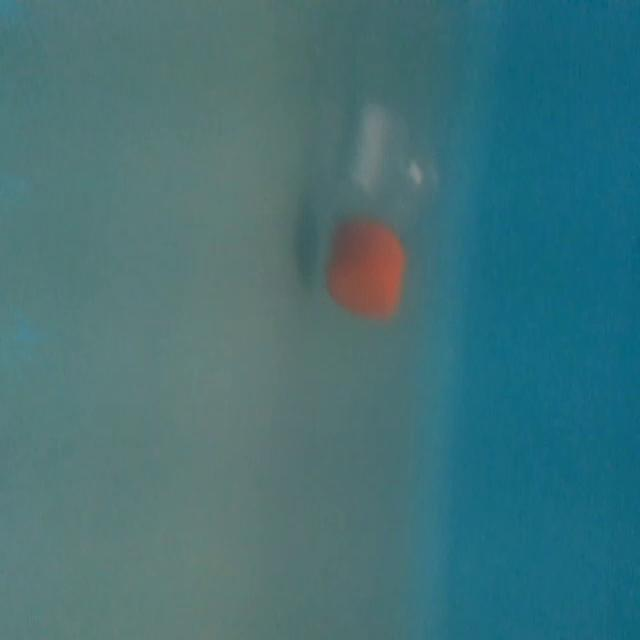plastic bottle: (323, 8, 458, 324)
